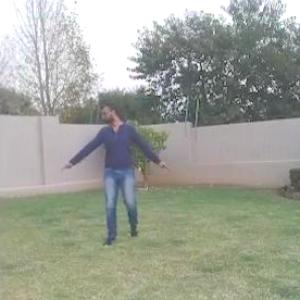land: (60, 92, 170, 244)
